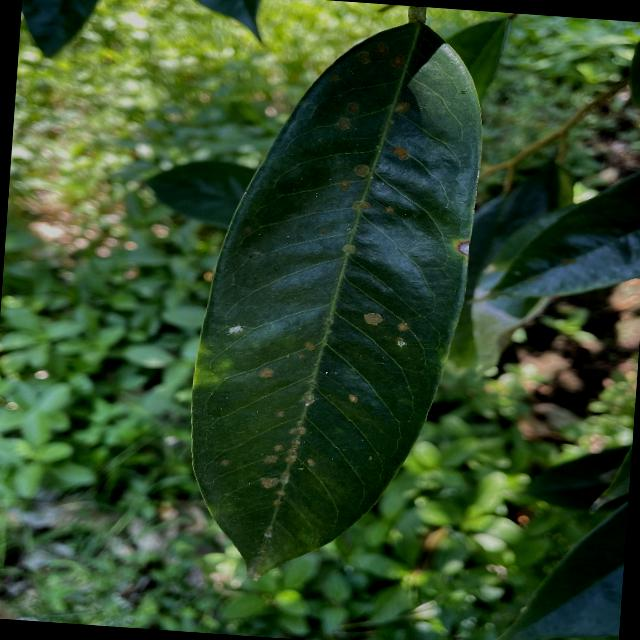Algal Leaf Spot: (173, 5, 496, 595)
